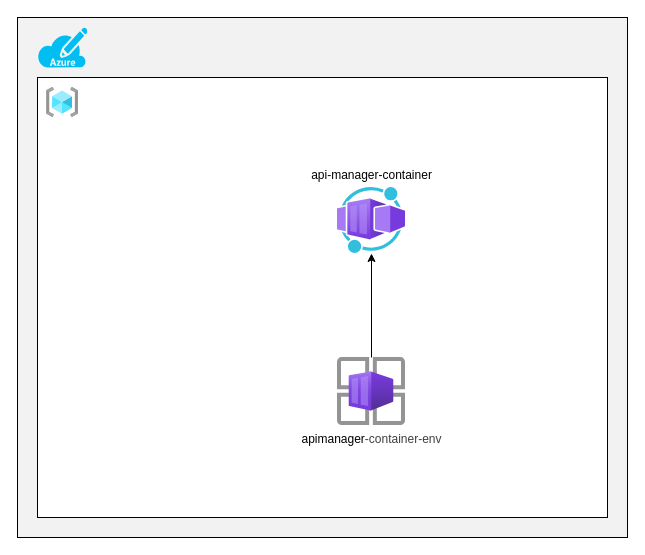
This 645x555 diagram has some shape labels left out. The shapes that lost their labels are listed below. From the top down, each one's box as (x1, y1, x2, y2) in pixels, then its label:
(37, 27, 87, 67): EHQ-ITEC-ARCHI-TEST
(46, 87, 78, 117): arch-coe-apimanager
